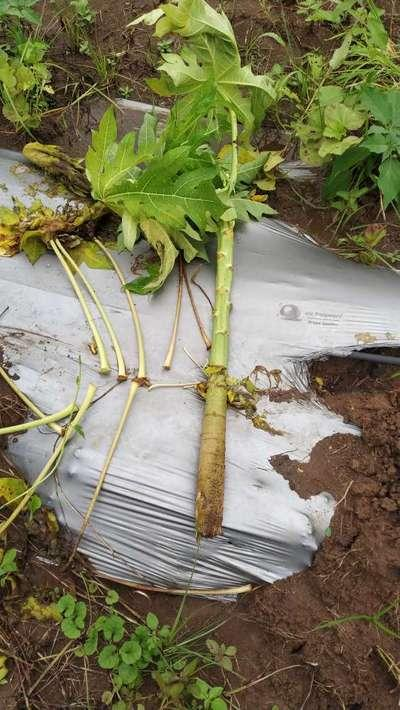root_rot: (63, 56, 350, 616)
